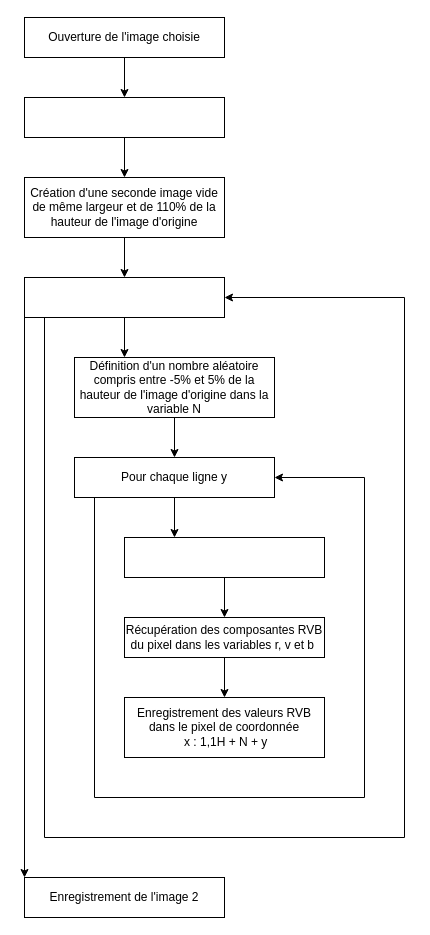
This 430x935 diagram has some shape labels left out. Here are the shapes that lost their labels. From the top down, the box of each, then its label:
(24, 96, 224, 138): Lecture des dimensions H et L de l'image
(24, 276, 224, 318): Pour chaque colonne x
(124, 536, 324, 578): Récupération du pixel x : y
